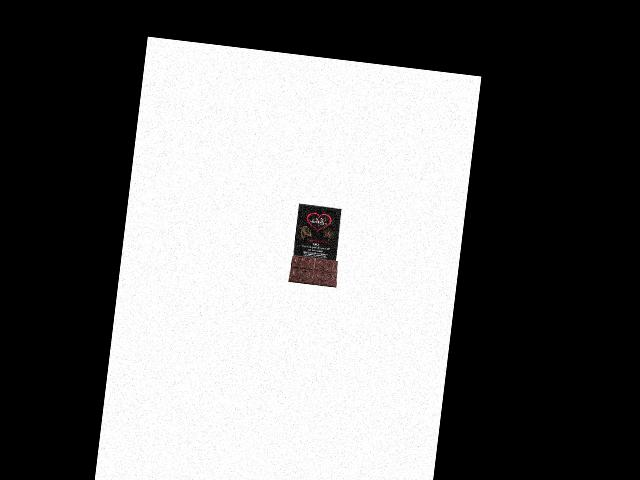chocolate: (286, 202, 349, 291)
